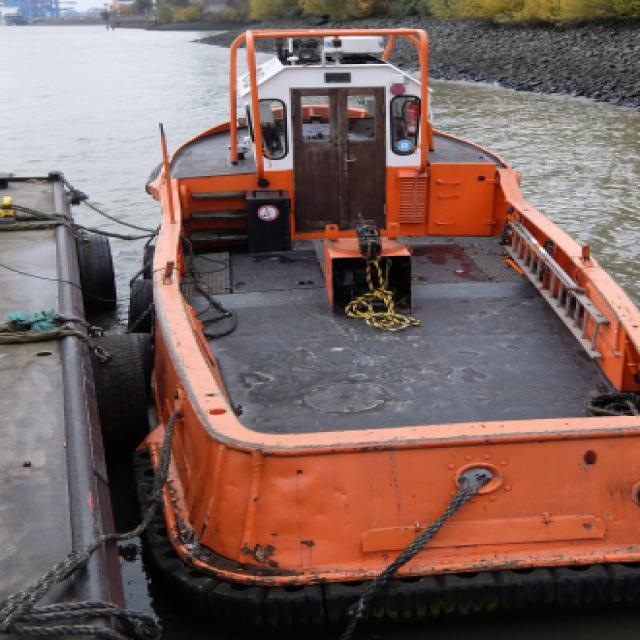tugboat: (121, 18, 640, 615)
